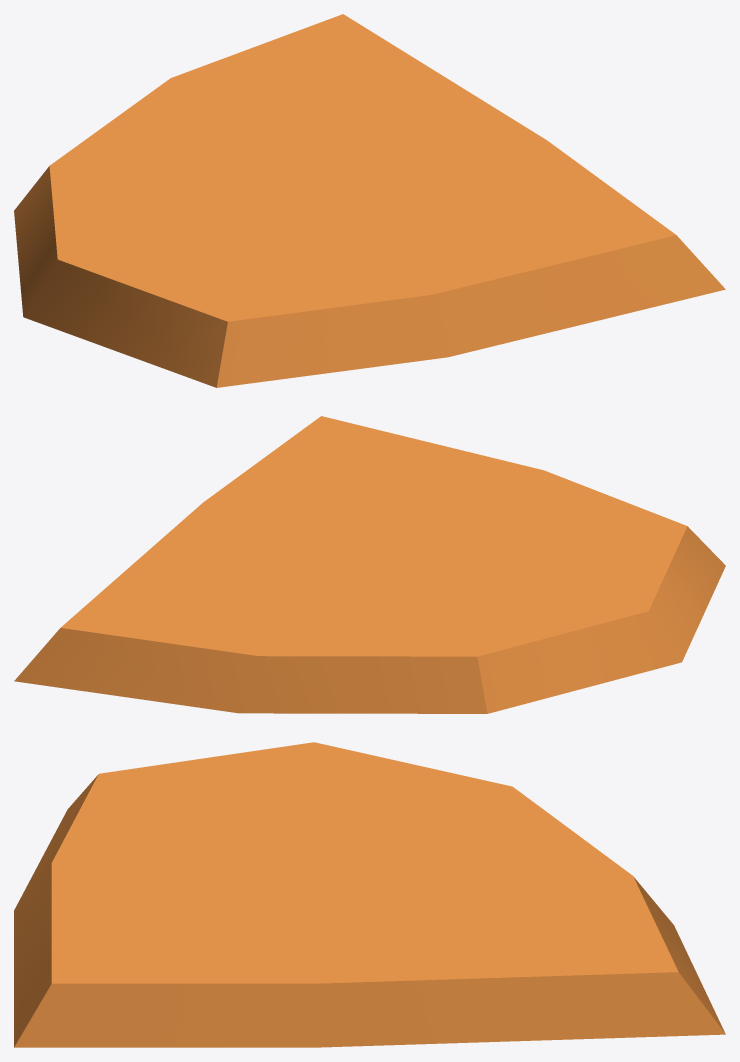
File: stone_09.FBX
3 views of the same model, one above another, from view 1: azimuth 30°, elevation 25°; view 2: azimuth 150°, elevation 25°; view 3: azimuth 270°, elevation 25° (orthographic). The views are drawn at different scales.
Visible parts, largest first — view 1: stone_09; view 2: stone_09; view 3: stone_09.
Part boxes in pixels (x1=…): stone_09: x1=14, y1=14, x2=725, y2=387; stone_09: x1=14, y1=416, x2=725, y2=713; stone_09: x1=14, y1=742, x2=725, y2=1047.
Bounding box in the file's own units: 0.7 × 0.0582 × 0.7681.
1 material, 1 textured.
